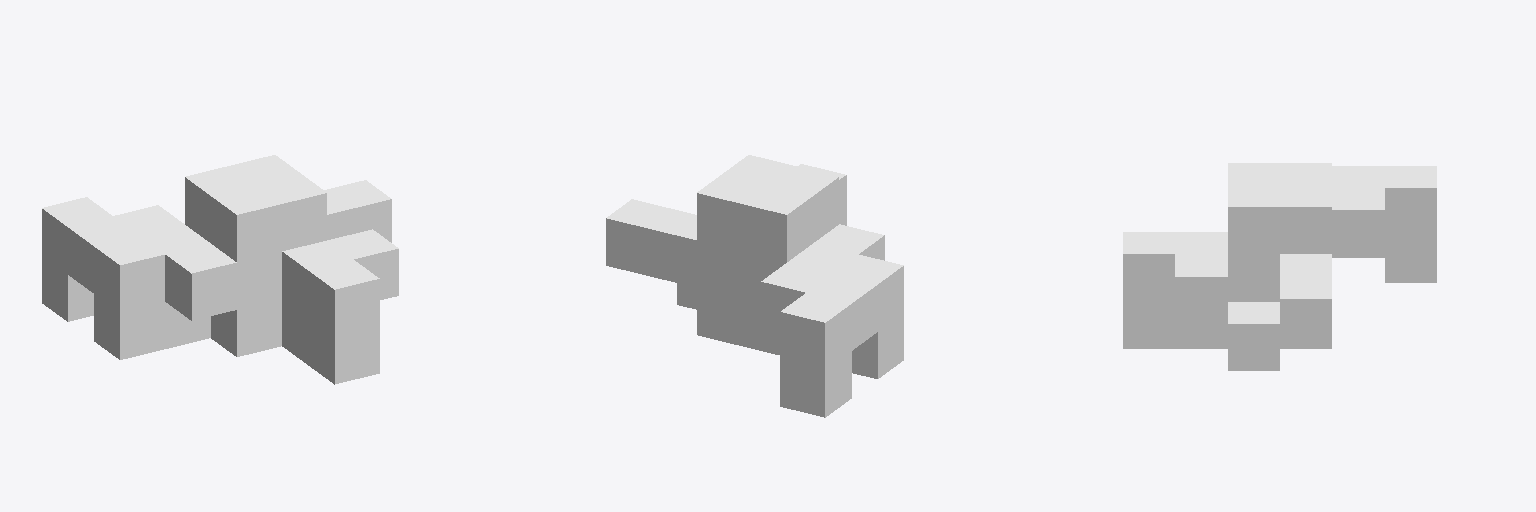
File: DarkAttack.obj
3 views of the same model, side by side, from view 1: azimuth 30°, elevation 25°; view 2: azimuth 150°, elevation 25°; view 3: azimuth 270°, elevation 25° (orthographic).
Visible parts, largest first — view 1: object 1; view 2: object 1; view 3: object 1.
Part boxes in pixels (x1,y1,x2,y2): object 1: (42, 155, 398, 384); object 1: (606, 155, 903, 417); object 1: (1123, 163, 1436, 370).
Bounding box in the file's own units: 0.6 × 0.3 × 0.6.